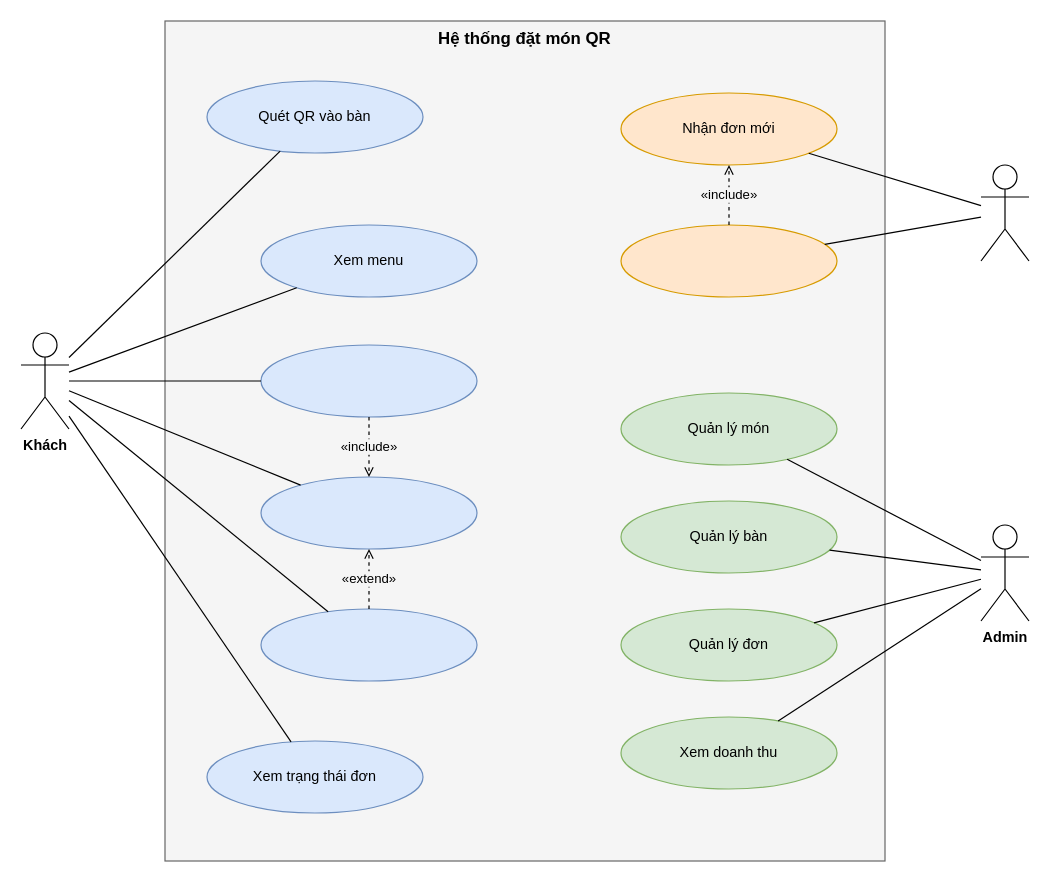
Some shapes in this 1050 by 882 pixel diagram are drawn without their labels. The box of each missing label's shape, as (x1, y1, x2, y2) in pixels:
Bếp: (980, 164, 1029, 261)
Chat AI gợi ý món: (260, 608, 477, 681)
Chọn món, thêm vào giỏ hàng: (260, 476, 477, 549)
Xử lý đơn (đổi trạng thái): (620, 224, 837, 297)
Đặt món (gửi đơn): (260, 344, 477, 417)
